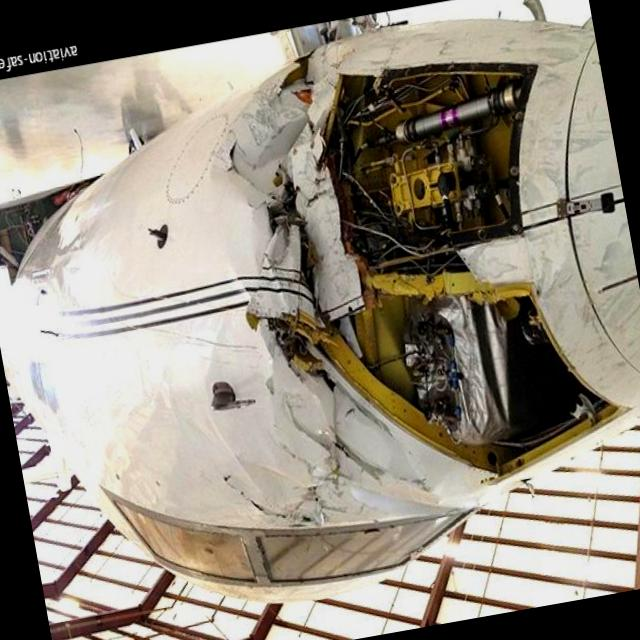crack: (219, 459, 319, 538), (218, 131, 281, 213)
